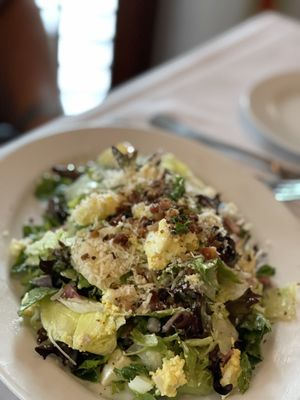pizza: (35, 0, 119, 117)
